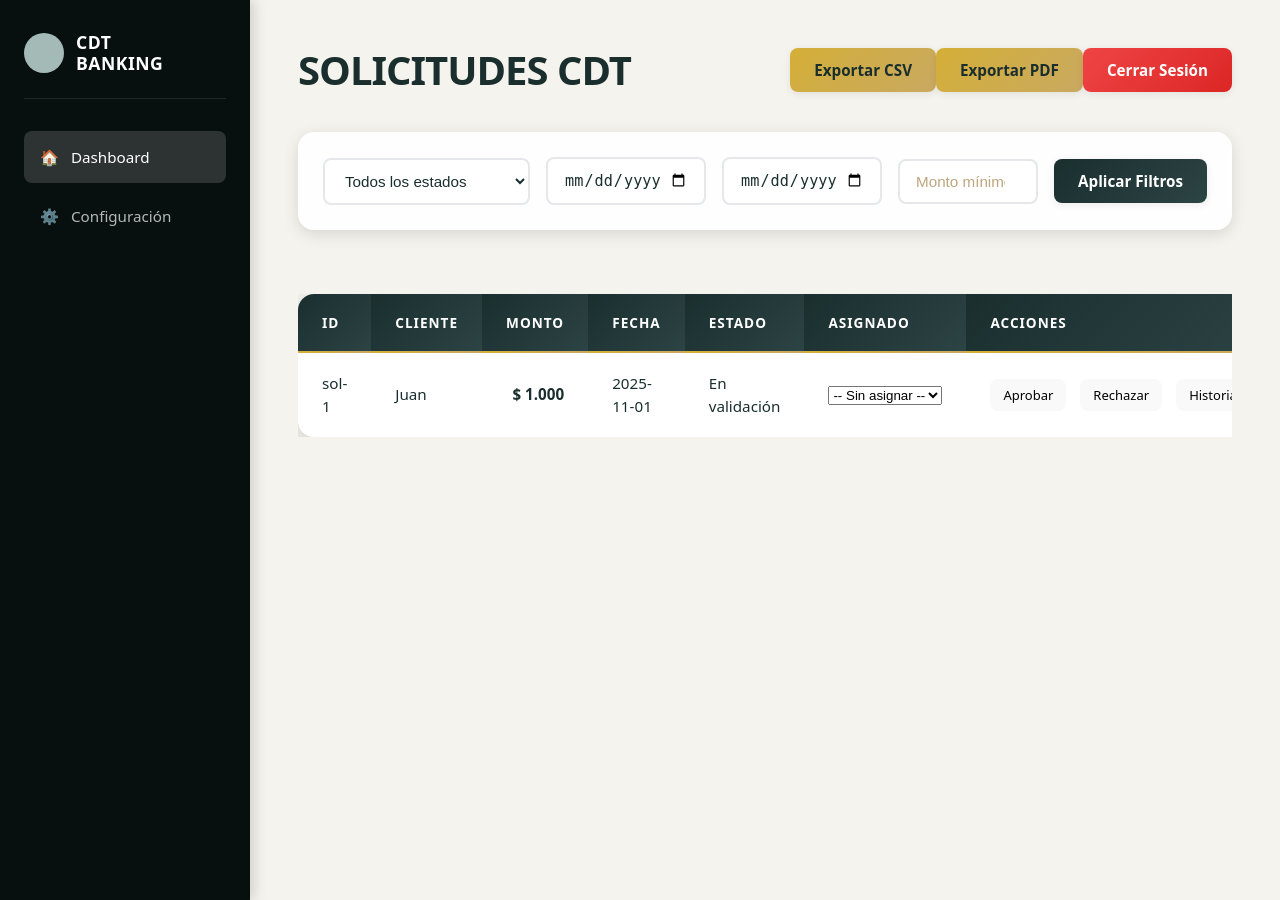
AgenteDashboard Component › debe abrir modal de rechazo
The image size is (1280, 900).
Expected: the text "Juan" is shown, x1=371 y1=353 x2=482 y2=437
Click the button "Rechazar" at {"x": 1121, "y": 395}, box x1=1080 y1=379 x2=1162 y2=411
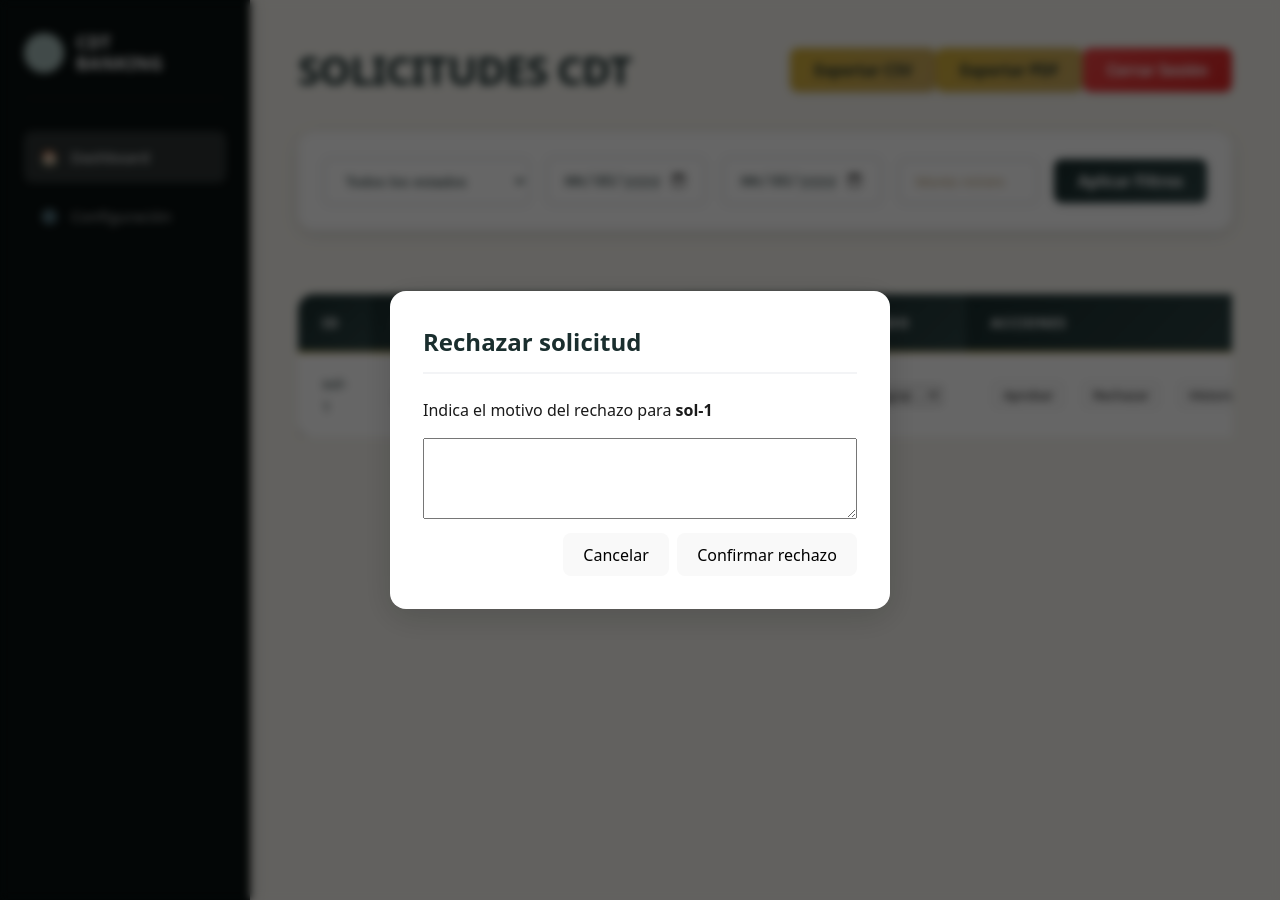
Expected: the heading "Rechazar solicitud" is shown, x1=423 y1=324 x2=857 y2=374
